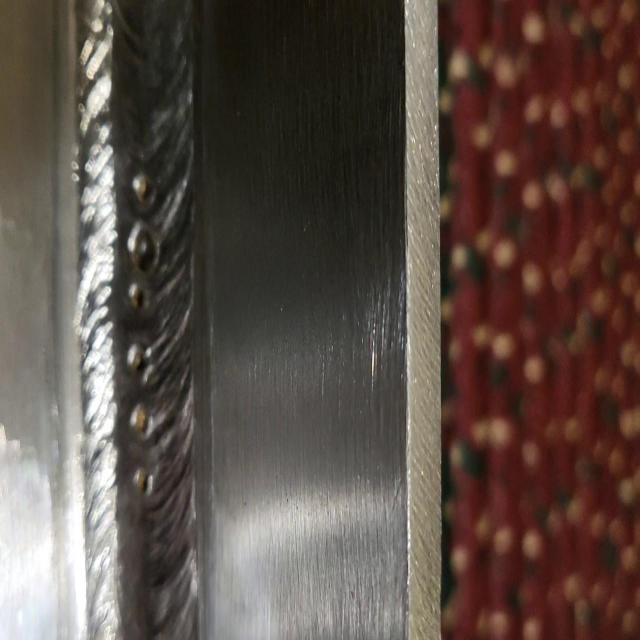Welding Line: (79, 13, 195, 640)
Workpiece: (5, 4, 443, 640)
porosity: (124, 174, 158, 496)
